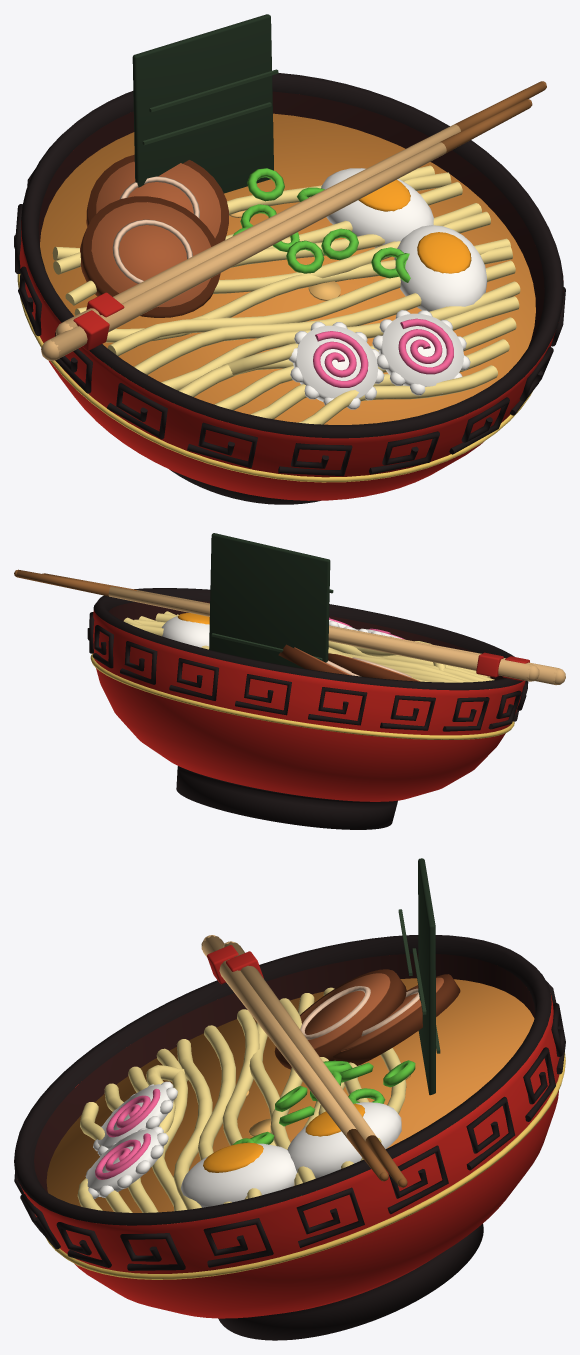
The model's file is ramen_bowl.glb.
The picture shows the model from 3 angles, top to bottom: view 1: azimuth 30°, elevation 25°; view 2: azimuth 150°, elevation 25°; view 3: azimuth 270°, elevation 25°; orthographic projection. The views are drawn at different scales.
Parts seen in each view (by area): view 1: ramen_bowl; view 2: ramen_bowl; view 3: ramen_bowl.
Boxes of the visible parts, left/top/right/bottom form: ramen_bowl: left=14, top=14, right=565, bottom=504; ramen_bowl: left=14, top=533, right=565, bottom=829; ramen_bowl: left=14, top=858, right=565, bottom=1340.
Bounding box in the file's own units: 1 × 0.6351 × 0.7785.
